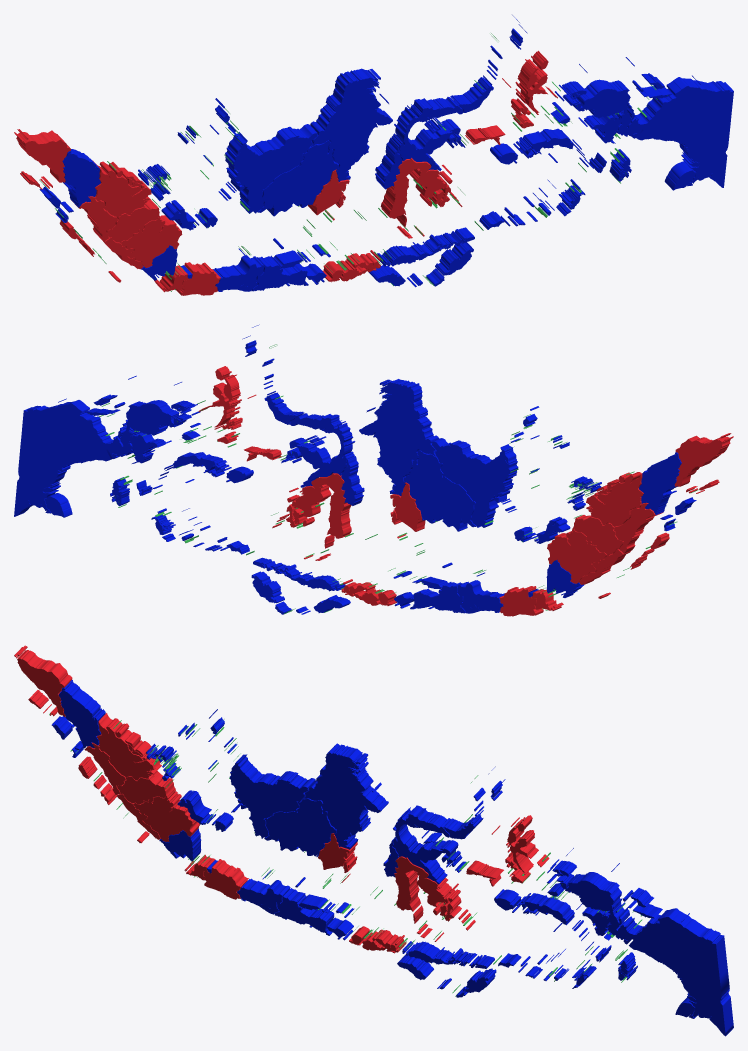
Rendered from peta indonesia (prov).fbx.
3 renders of one model, top to bottom at view 1: azimuth 30°, elevation 25°; view 2: azimuth 150°, elevation 25°; view 3: azimuth 330°, elevation 25°, orthographic. The views are drawn at different scales.
Parts seen in each view (by area): view 1: Papua, Kalimantan Timur, Kalimantan Barat, Maluku, Irian Jaya Barat, NTT, Kalimantan Tengah, Sulawesi Tengah, Maluku Utara, Riau, Sumatera Utara, Aceh (+18 smaller); view 2: Papua, Kalimantan Timur, Kalimantan Barat, Kalimantan Tengah, Irian Jaya Barat, Maluku, Sulawesi Tengah, NTT, Riau, Sumatera Utara, Maluku Utara, Sumatera Selatan (+17 smaller); view 3: Papua, Kalimantan Timur, Kalimantan Barat, Irian Jaya Barat, Maluku, Sulawesi Tengah, Kalimantan Tengah, NTT, Riau, Sumatera Utara, Maluku Utara, Aceh (+15 smaller).
Boxes of the visible parts, x1,y1,x2,y2 form: Papua: (627,73,733,190); Kalimantan Timur: (310,68,392,181); Kalimantan Barat: (218,124,317,213); Maluku: (479,128,631,229); Irian Jaya Barat: (550,57,641,143); NTT: (369,227,474,287); Kalimantan Tengah: (257,140,338,216); Sulawesi Tengah: (391,98,465,170); Maluku Utara: (465,50,557,144); Riau: (92,160,151,216); Sumatera Utara: (39,149,100,222); Aceh: (14,129,71,189); Papua: (14,394,125,517); Kalimantan Timur: (359,379,438,495); Kalimantan Barat: (432,438,518,527); Kalimantan Tengah: (403,450,476,531); Irian Jaya Barat: (108,375,200,463); Maluku: (110,452,253,554); Sulawesi Tengah: (281,414,355,487); NTT: (251,557,350,614); Riau: (586,472,643,526); Sumatera Utara: (639,452,696,531); Maluku Utara: (198,366,281,461); Sumatera Selatan: (547,528,608,583); Papua: (618,888,733,1036); Kalimantan Timur: (304,743,388,849); Kalimantan Barat: (229,754,315,838); Irian Jaya Barat: (547,848,631,944); Maluku: (494,889,637,988); Sulawesi Tengah: (392,805,466,883); Kalimantan Tengah: (264,796,336,856); NTT: (397,941,496,997); Riau: (97,713,161,780); Sumatera Utara: (51,680,105,757); Maluku Utara: (466,815,549,886); Aceh: (14,645,72,716).
Size of the model in its own units: 1211 by 442 by 102.
